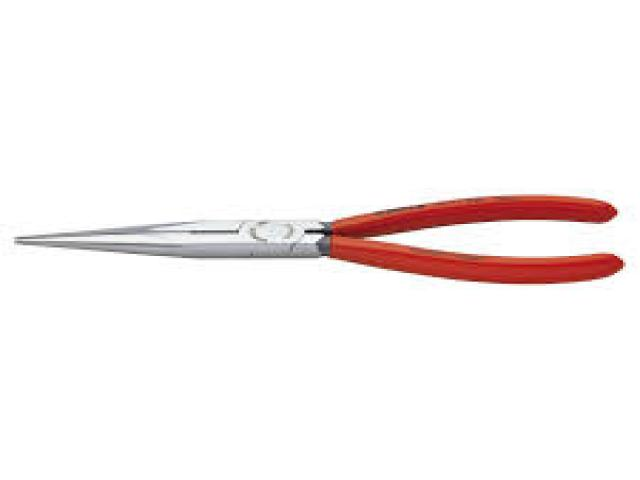Needle-nose pliers: (16, 196, 622, 283)
